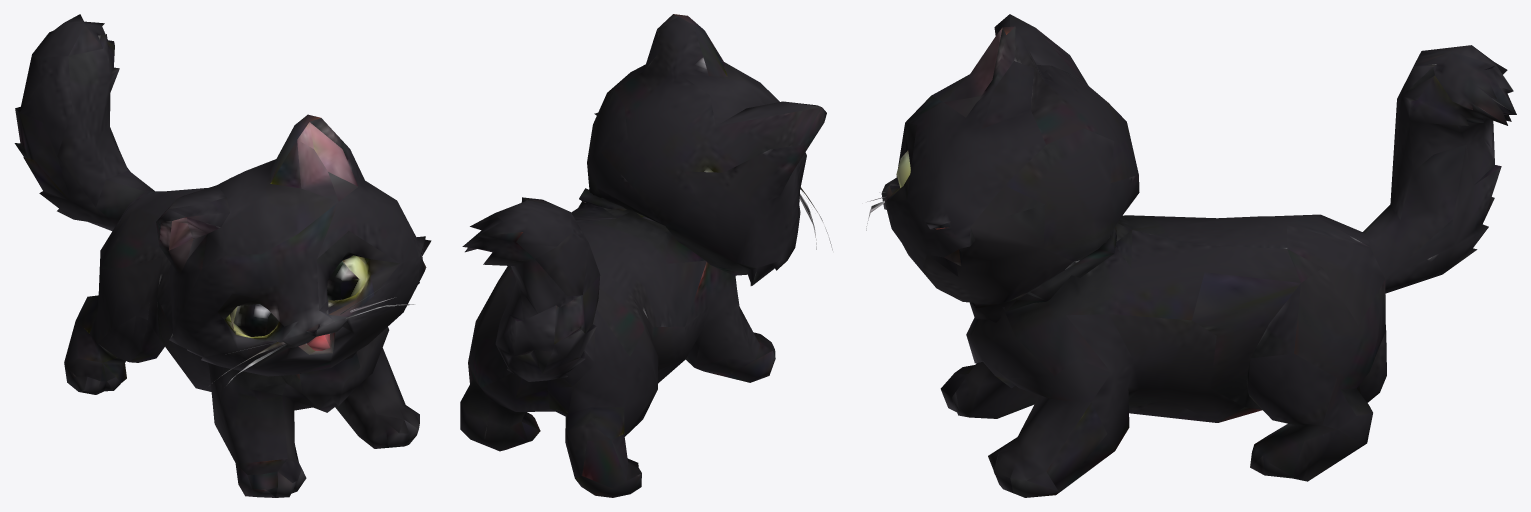
The model's file is gato-preto-leve.glb.
The picture shows the model from 3 angles, left to right: view 1: azimuth 30°, elevation 25°; view 2: azimuth 150°, elevation 25°; view 3: azimuth 270°, elevation 25°; orthographic projection. The views are drawn at different scales.
Bounding box in the file's own units: 0.1563 × 0.2017 × 0.2882.
Materials: 1 (1 with a texture image).
